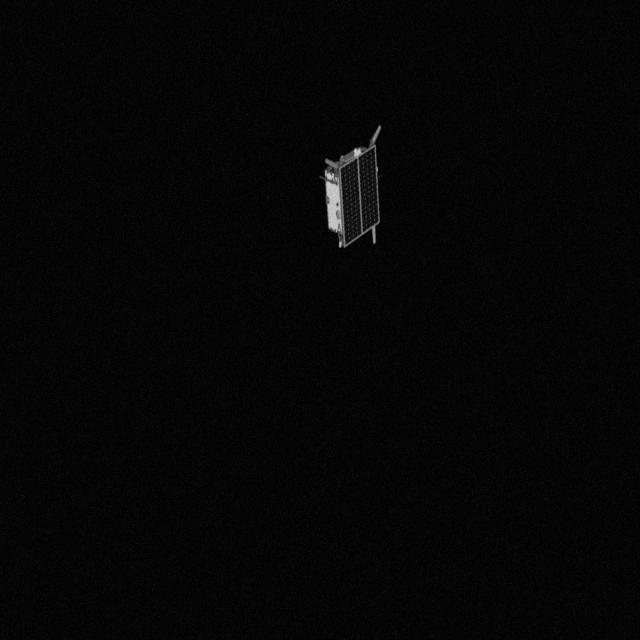satellite: (310, 126, 408, 258)
